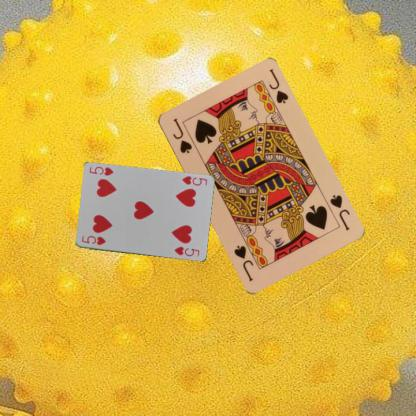5h: (179, 174, 208, 188), (79, 233, 107, 247)
Js: (326, 192, 351, 232), (170, 115, 193, 155)
